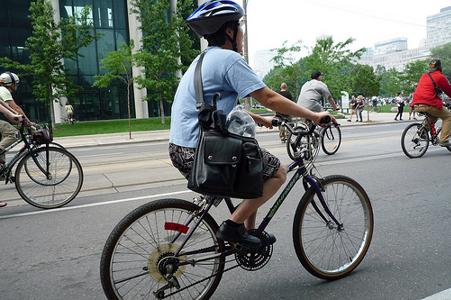person: (169, 4, 340, 250)
